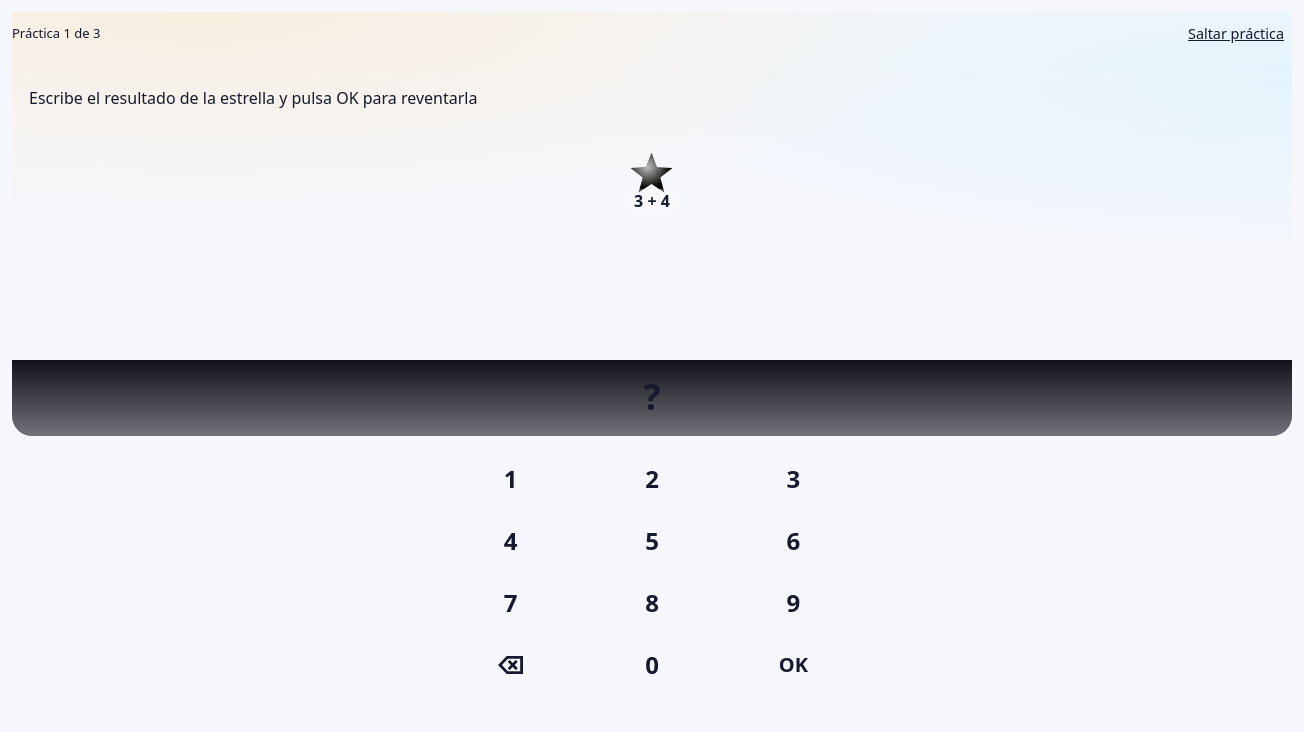
round 1: 6 and OK on the keypad show the first hint, the star stays, and the next try counts
Click the button "6" at [793, 541], box x1=727 y1=514 x2=860 y2=568
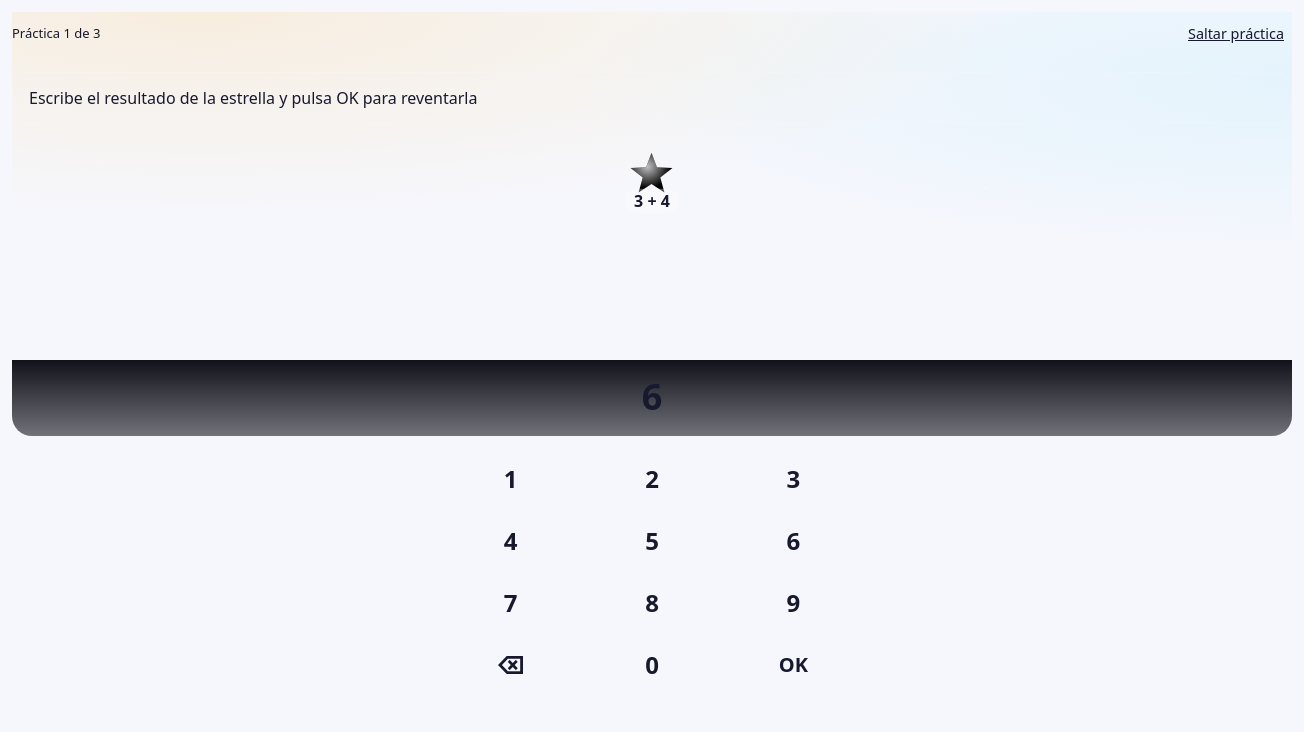
Click the button "OK" at [793, 665], box x1=727 y1=638 x2=860 y2=692
Wait 3000 ms
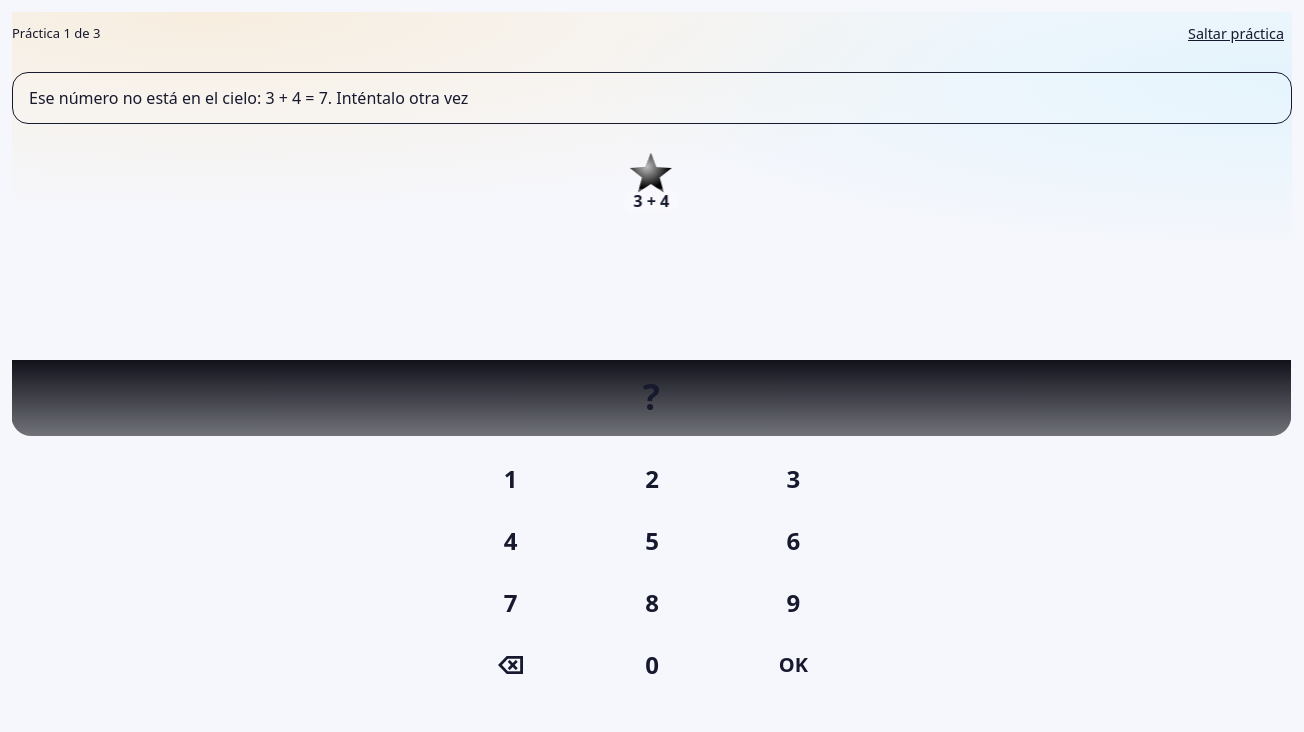
Result: the text with test id "answer" has attribute data-wrong="1" at x1=646 y1=372 x2=663 y2=421
Press 7
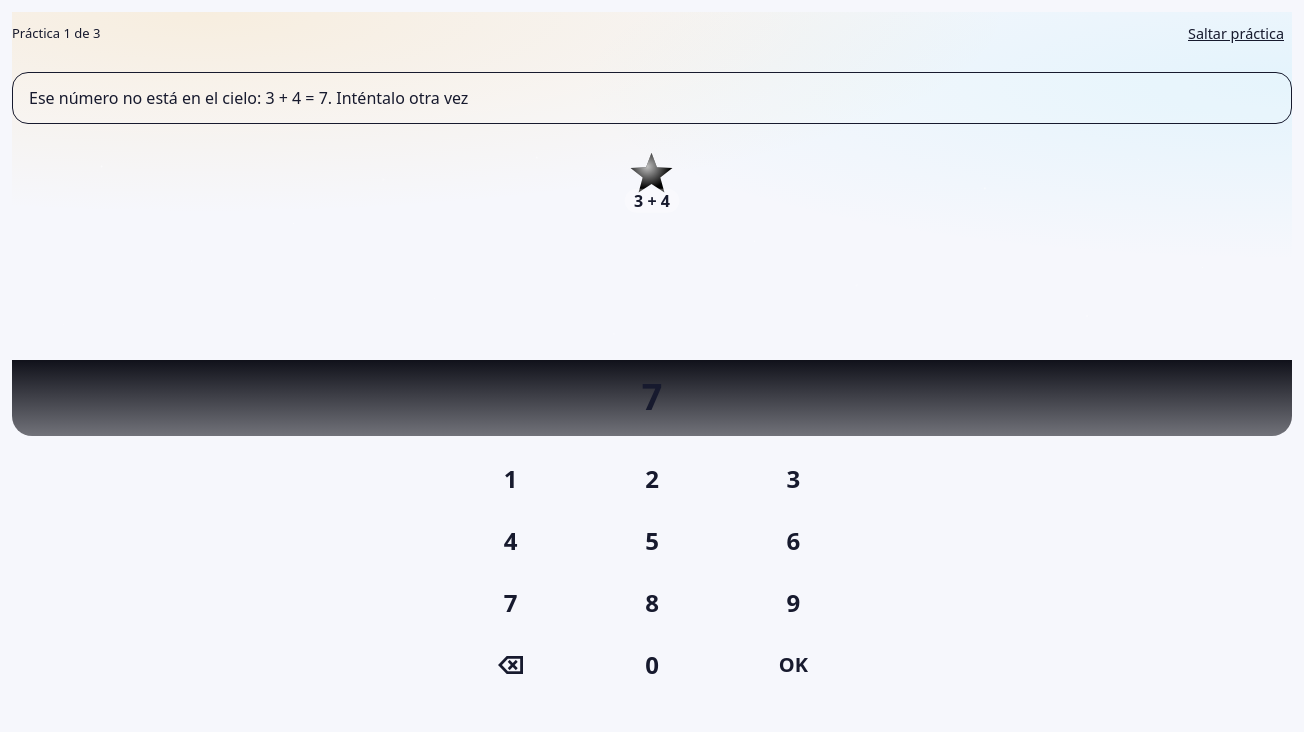
Press Enter
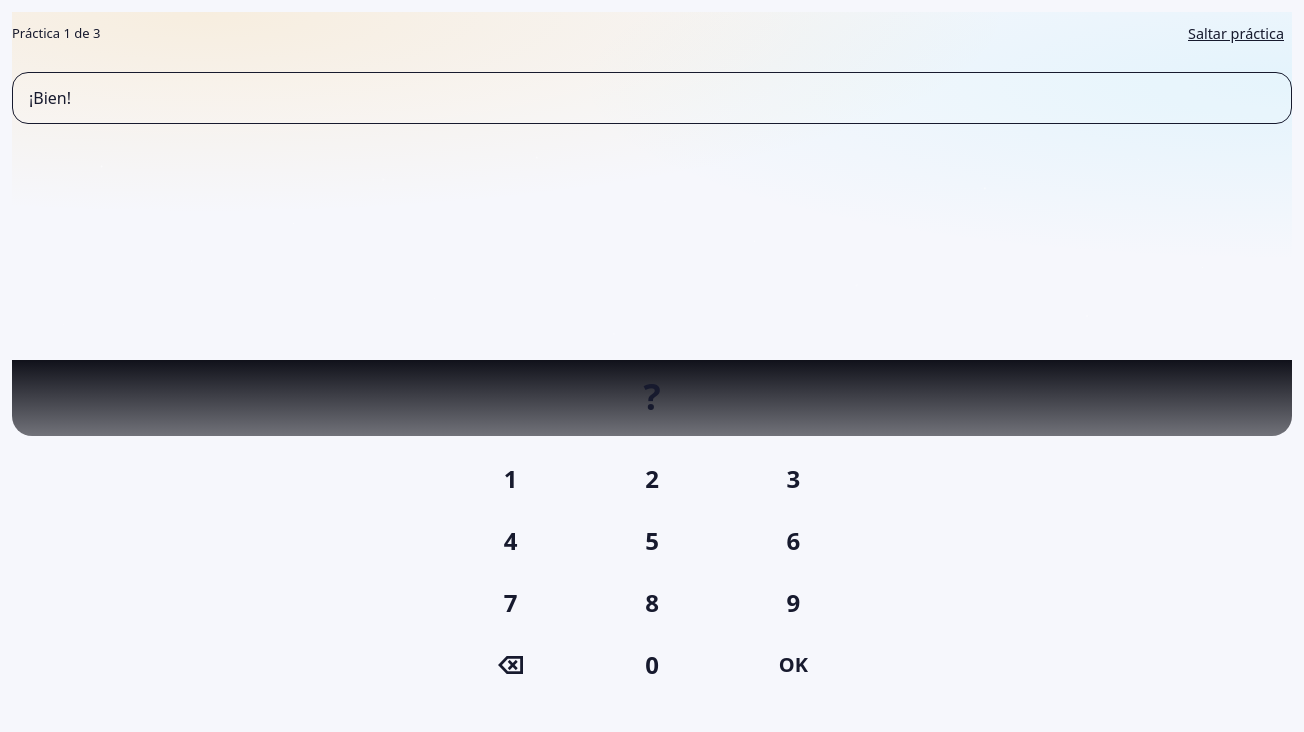
Result: no elements with test id "star" are shown
